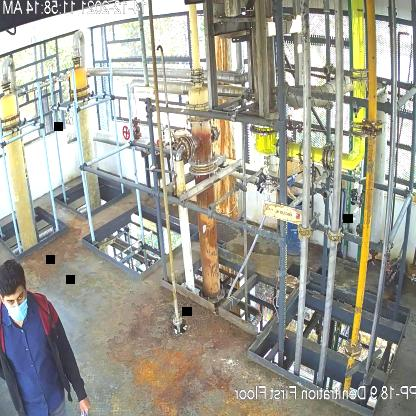no_goggles: (3, 292, 27, 308)
